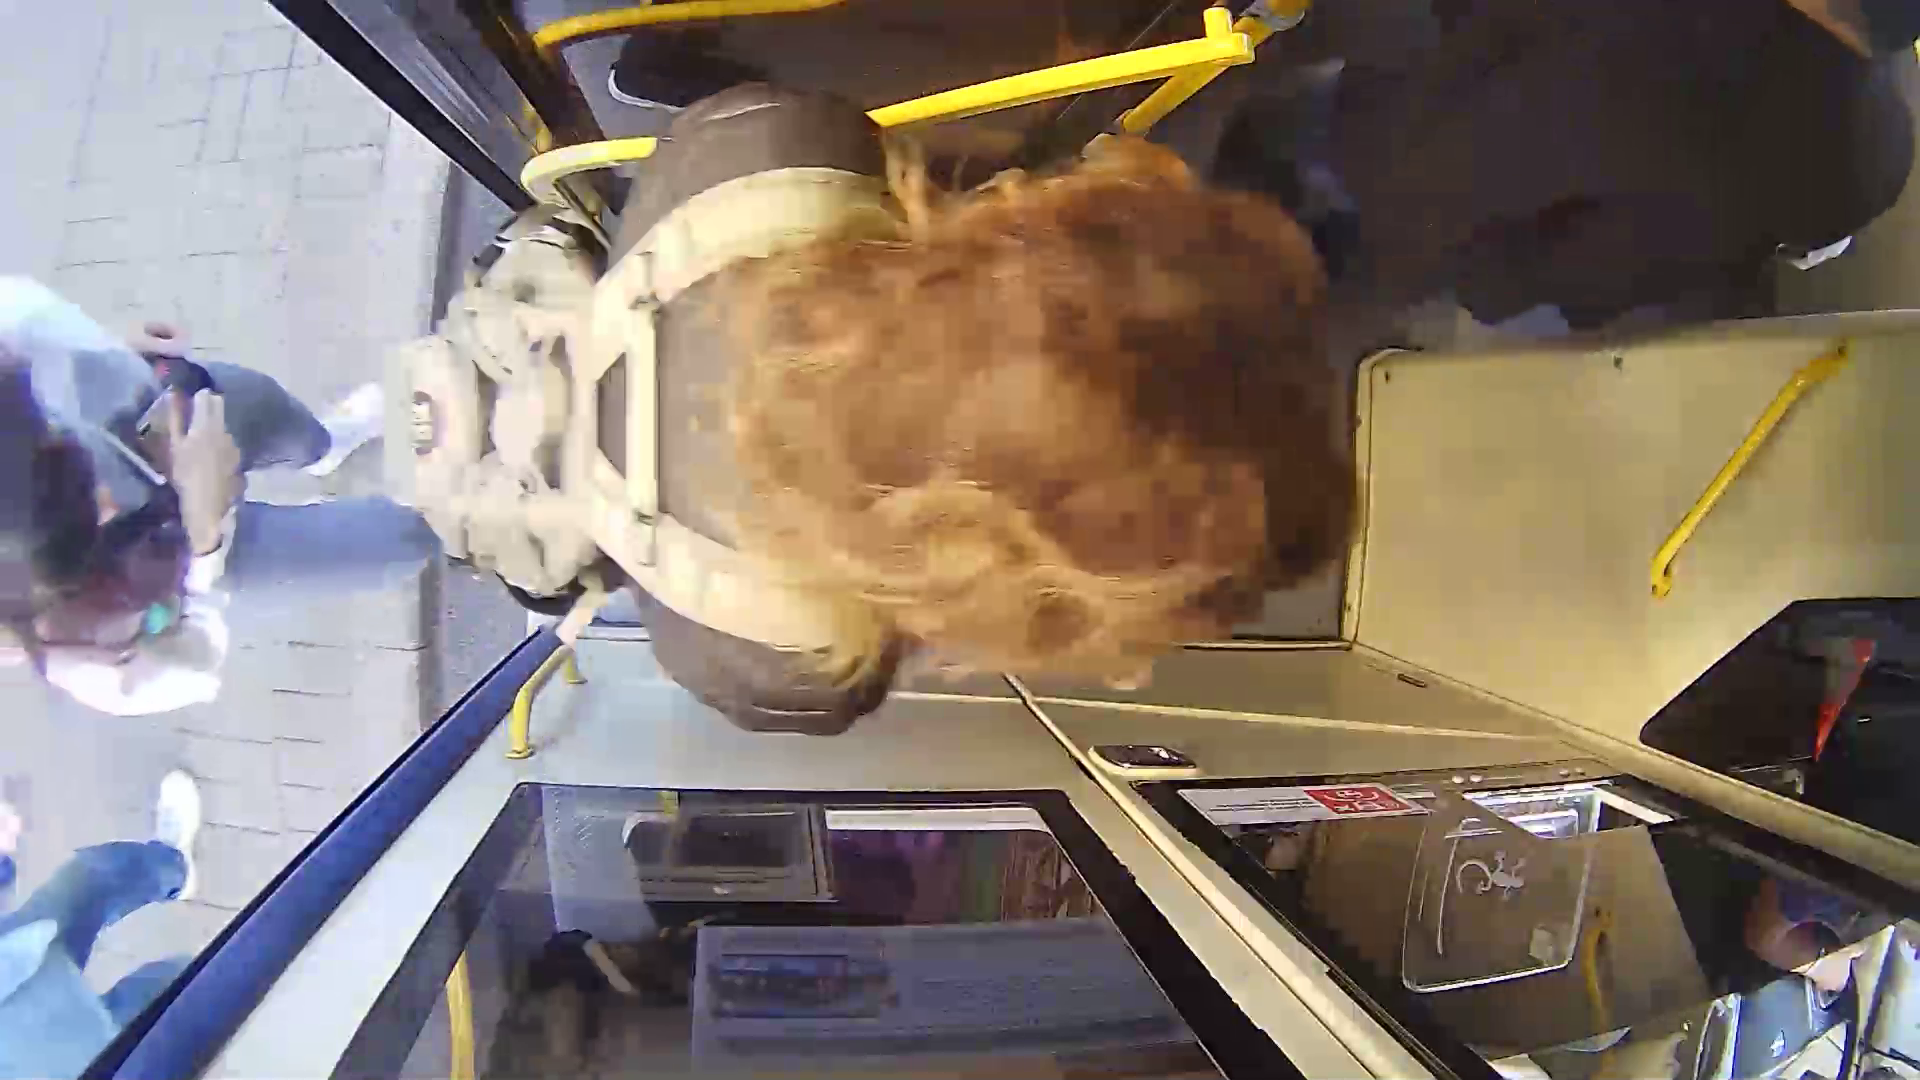person: (388, 74, 1333, 722)
